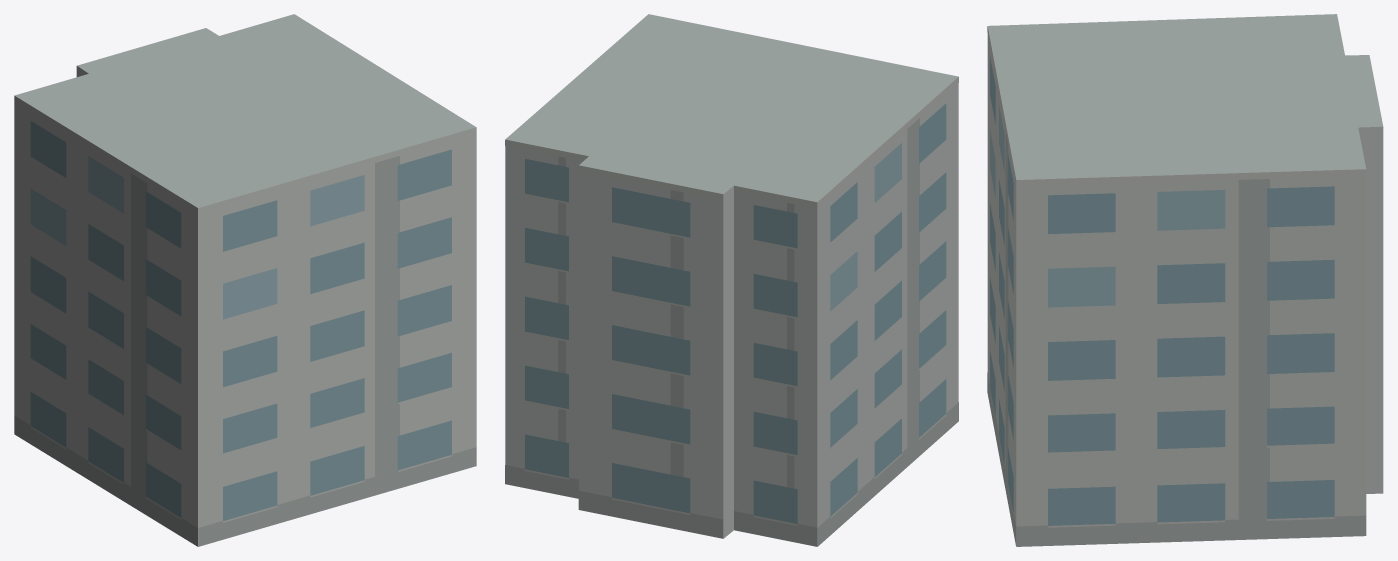
File: survey-upis-32759629.glb
3 views of the same model, side by side, from view 1: azimuth 30°, elevation 25°; view 2: azimuth 150°, elevation 25°; view 3: azimuth 270°, elevation 25° (orthographic). The views are drawn at different scales.
Parts seen in each view (by area): view 1: survey-upis-32759629.tmp; view 2: survey-upis-32759629.tmp; view 3: survey-upis-32759629.tmp.
Boxes of the visible parts, x1,y1,x2,y2 form: survey-upis-32759629.tmp: (14,14,476,546); survey-upis-32759629.tmp: (505,14,958,546); survey-upis-32759629.tmp: (987,14,1383,546).
Bounding box in the file's own units: 12.82 × 13.2 × 12.92.
